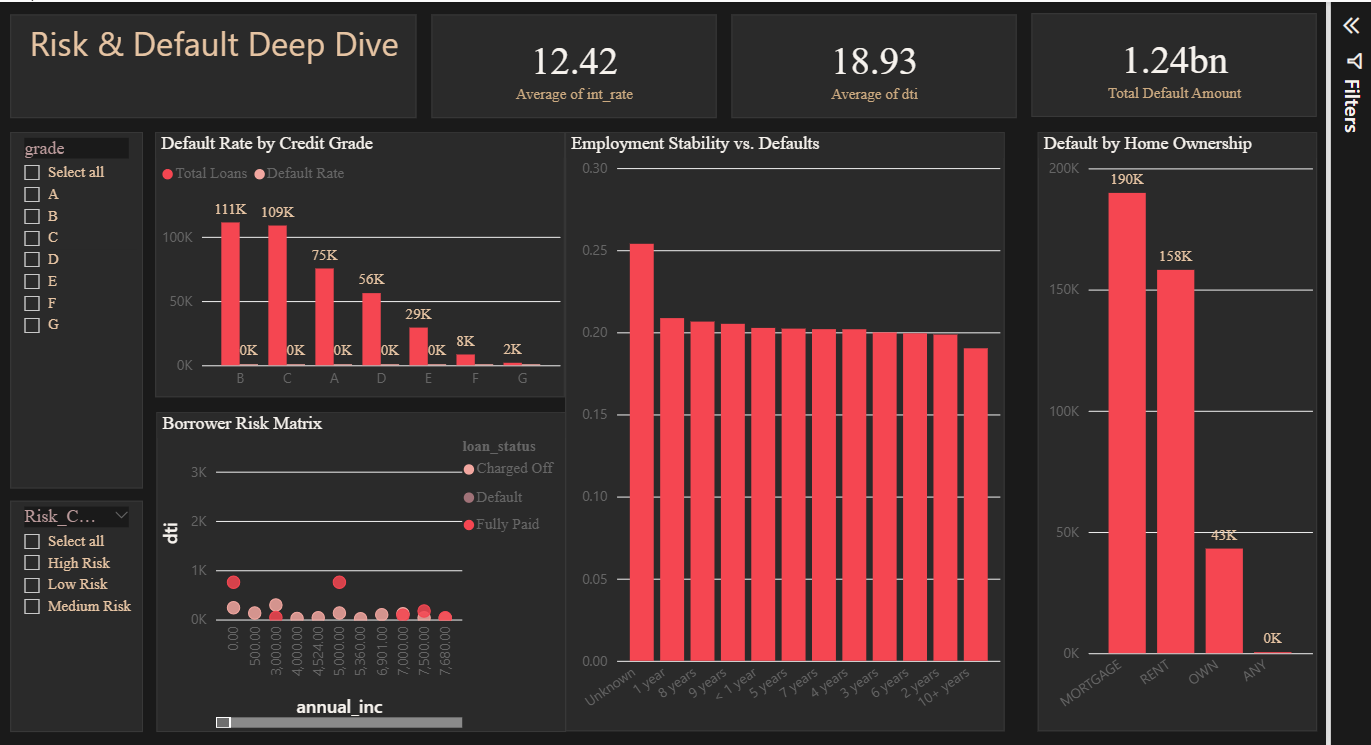

This screenshot's page, from the dashboard's own definition file:
{"tool":"powerbi","page":{"name":"Risk and Default","canvas":[1280,720],"ordinal":1},"visuals":[{"type":"clusteredColumnChart","title":"Employment Stability vs. Defaults","fields":{"Category":["loan_portfolio.emp_length"],"Y":["loan_portfolio.Default Rate"]},"box":[547,125.8,424.2,578.8],"z":0},{"type":"scatterChart","title":"Borrower Risk Matrix","fields":{"X":["loan_portfolio.annual_inc"],"Y":["Sum(loan_portfolio.dti)"],"Series":["loan_portfolio.loan_status"]},"box":[151.5,395.5,395.5,309.1],"z":1000},{"type":"clusteredColumnChart","title":"Default Rate by Credit Grade","fields":{"Category":["loan_portfolio.grade"],"Y":["loan_portfolio.Total Loans","loan_portfolio.Default Rate"]},"box":[151,126,395,256],"z":3000},{"type":"textbox","box":[10.6,12.1,392.2,99.9],"z":4000},{"type":"card","fields":{"Values":["Avg(loan_portfolio.int_rate)"]},"box":[417.5,11.9,275,100],"z":5000},{"type":"card","fields":{"Values":["Avg(loan_portfolio.dti)"]},"box":[707.2,12,275,100],"z":6000},{"type":"card","fields":{"Values":["loan_portfolio.Total Default Amount"]},"box":[996.9,11.5,275,100.3],"z":7000},{"type":"slicer","fields":{"Values":["loan_portfolio.grade"]},"box":[11,126,128,344],"z":8000},{"type":"slicer","fields":{"Values":["loan_portfolio.Risk_Category"]},"box":[11,481,128,223],"z":9000},{"type":"columnChart","title":"Default by Home Ownership","fields":{"Category":["loan_portfolio.home_ownership"],"Y":["loan_portfolio.Total Loans"]},"box":[1002.4,125.7,269.5,578.4],"z":10000}]}

Visuals, with their boxes on the page's 1280x720 design canvas (x1, y1, x2, y2). These are canvas units, not pixel positions in the 1371x745 screenshot, which may show the page scaled, cropped or inside an application window:
"Employment Stability vs. Defaults" clusteredColumnChart: bbox(547, 126, 971, 705)
"Borrower Risk Matrix" scatterChart: bbox(152, 396, 547, 705)
"Default Rate by Credit Grade" clusteredColumnChart: bbox(151, 126, 546, 382)
textbox: bbox(11, 12, 403, 112)
card - Avg(loan_portfolio.int_rate): bbox(418, 12, 692, 112)
card - Avg(loan_portfolio.dti): bbox(707, 12, 982, 112)
card - loan_portfolio.Total Default Amount: bbox(997, 12, 1272, 112)
slicer - loan_portfolio.grade: bbox(11, 126, 139, 470)
slicer - loan_portfolio.Risk_Category: bbox(11, 481, 139, 704)
"Default by Home Ownership" columnChart: bbox(1002, 126, 1272, 704)
